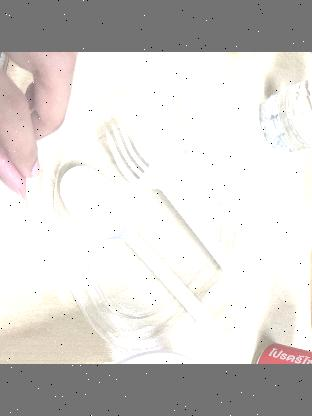Others: (62, 162, 220, 338), (106, 119, 246, 282)
